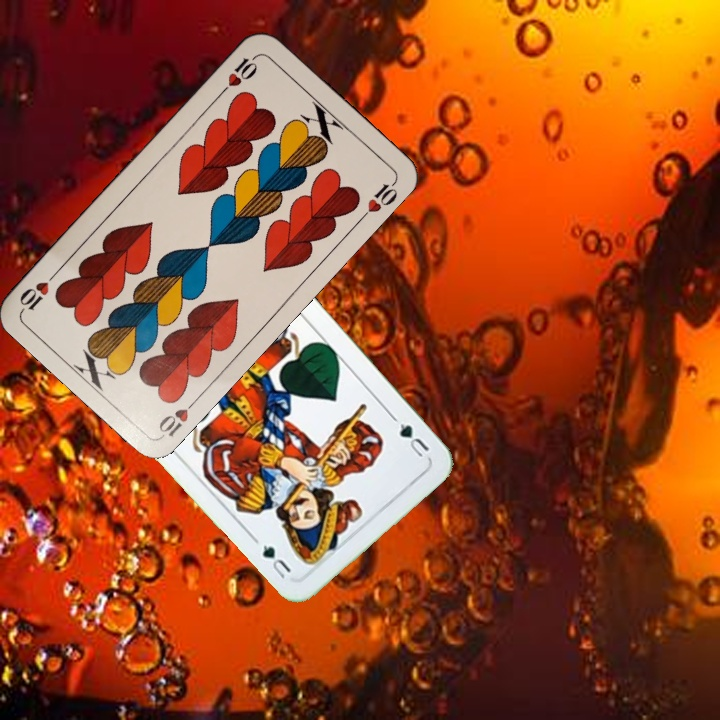GU: (388, 412, 432, 462)
H10: (154, 392, 202, 440), (215, 51, 261, 99)
